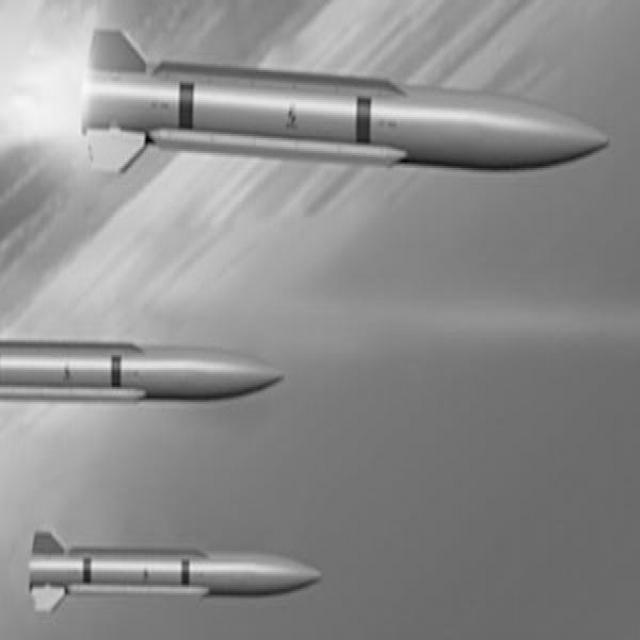Missile: (75, 17, 616, 218), (0, 522, 320, 628), (0, 326, 288, 429)
